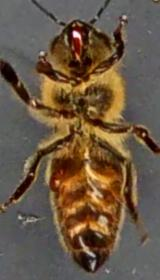varroa_mite: (45, 160, 65, 196)
